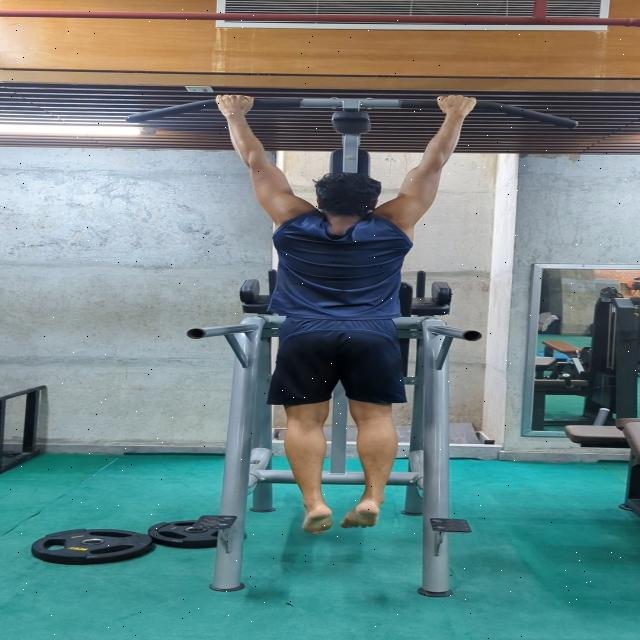Normal_PullUps: (197, 87, 485, 542)
